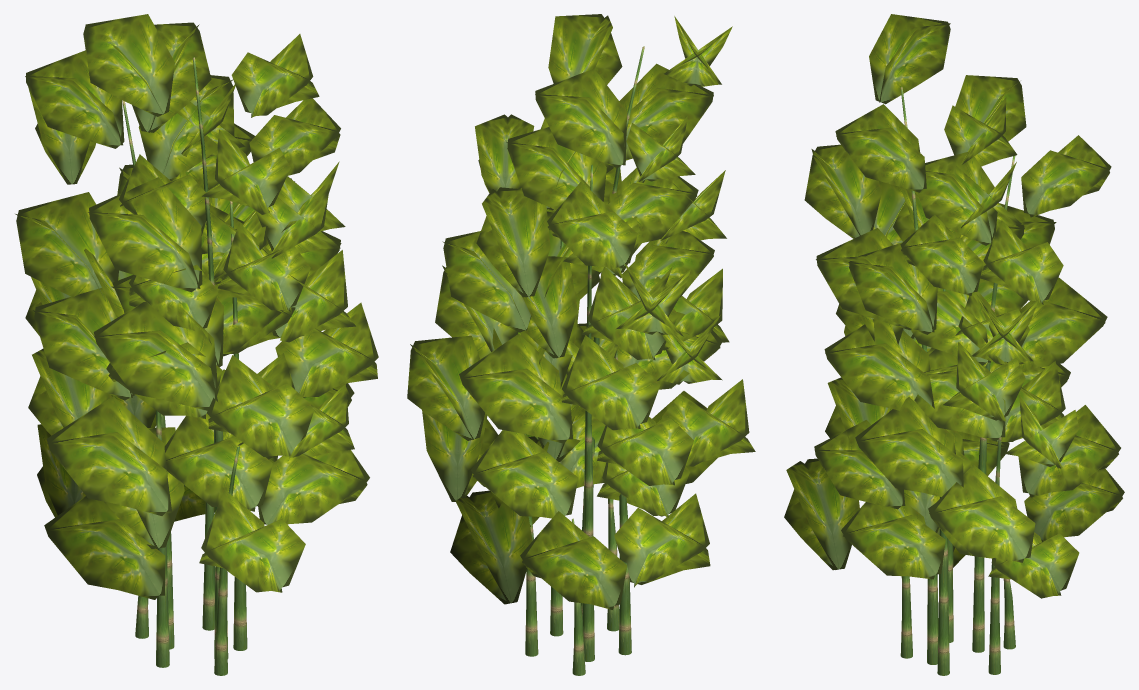
Rendered from bamboo.fbx.
3 renders of one model, left to right at view 1: azimuth 30°, elevation 25°; view 2: azimuth 150°, elevation 25°; view 3: azimuth 270°, elevation 25°, orthographic. The views are drawn at different scales.
Parts seen in each view (by area): view 1: Tree_1, Tree_0; view 2: Tree_1, Tree_0; view 3: Tree_1, Tree_0.
Part boxes in pixels (<box>): Tree_1: <box>15,14,378,599</box>; Tree_0: <box>122,57,247,675</box>; Tree_1: <box>407,14,755,609</box>; Tree_0: <box>525,46,644,675</box>; Tree_1: <box>784,14,1124,598</box>; Tree_0: <box>900,87,1015,675</box>.
Bounding box in the file's own units: 212 × 428 × 221.
2 materials, 2 textured.
